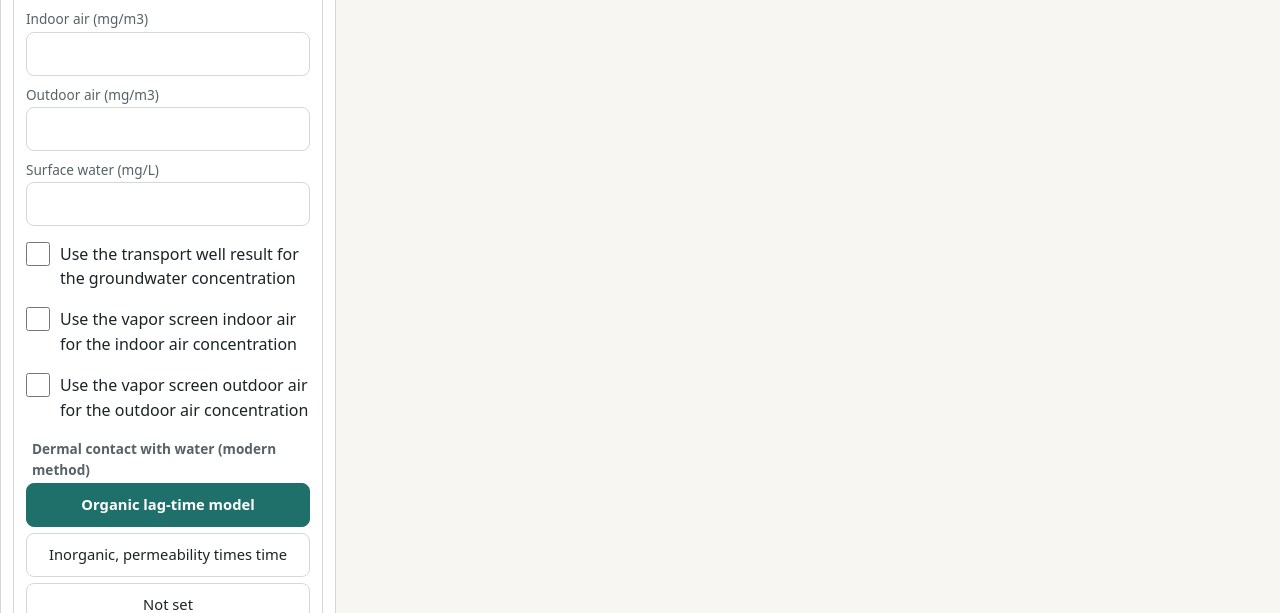
Test: exposure and risk stale marks › marks the well and vapor feed labels on a chemical card only while the feed is stale
This screenshot has width=1280, height=613.
(page scrolled)
Note: the vapor screen set to benzene put it on the project list, so the page already holds its row
Click the checkbox labelled "transport well result": click(38, 254) [26, 242, 50, 266]
(page scrolled)
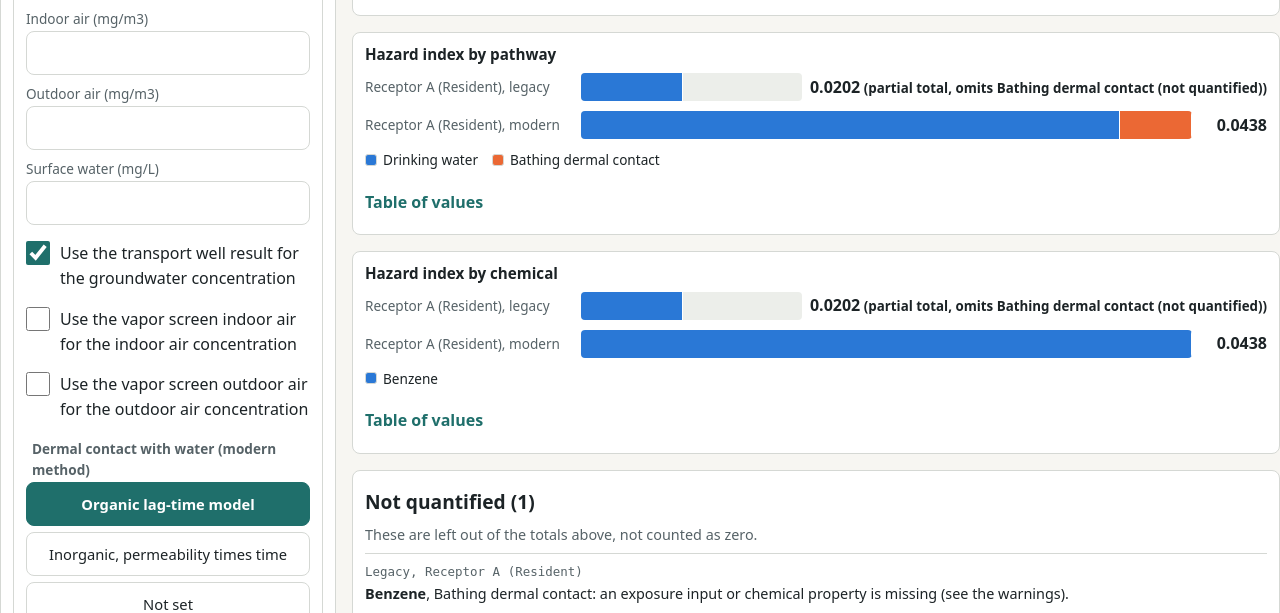
Click the checkbox labelled "vapor screen indoor air": click(38, 319) [26, 307, 50, 331]
(page scrolled)
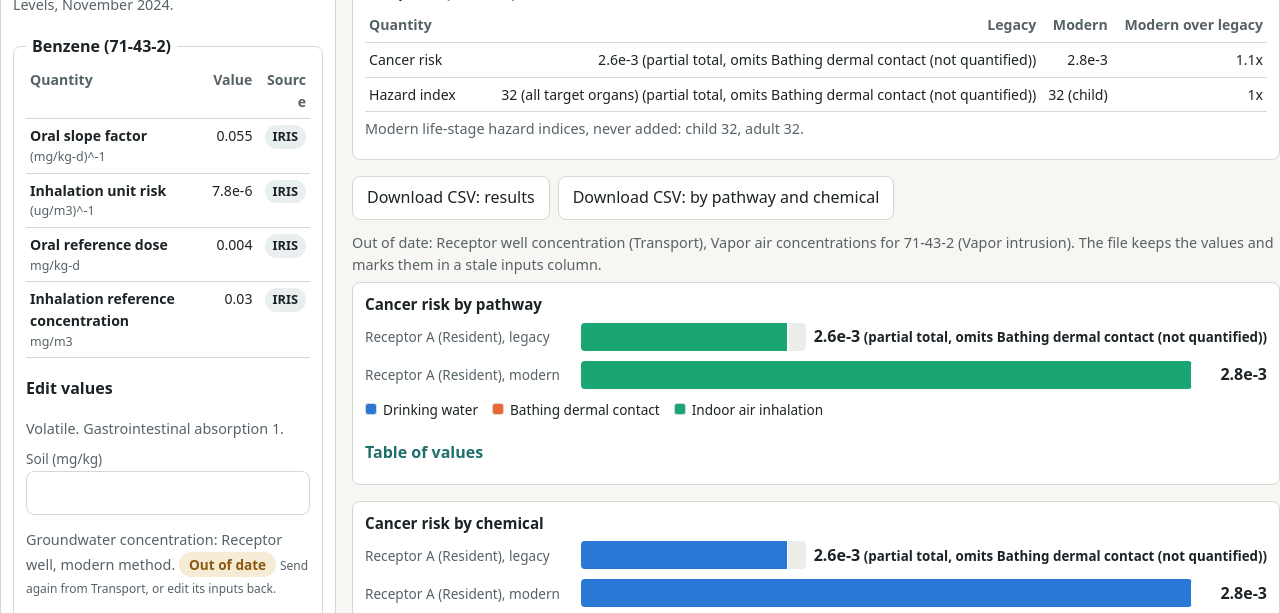
Expected: the text "Receptor well, modern method" is shown, [26, 530, 282, 574]
Expected: the text "Out of date" is shown, [179, 552, 276, 577]
Expected: the text "Send again from Transport, or edit its inputs back." is shown, [26, 557, 308, 597]
